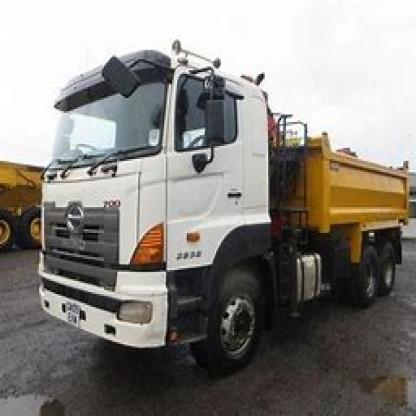dump_truck: (23, 50, 414, 379)
